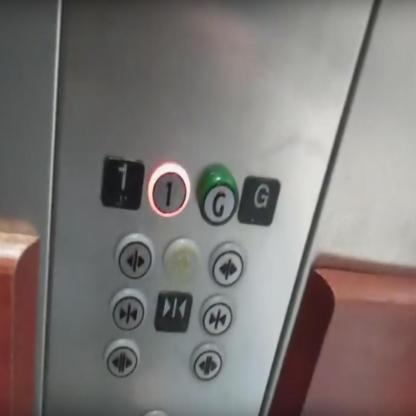1: (99, 153, 145, 210), (148, 161, 191, 218)
G: (196, 162, 238, 226), (237, 175, 281, 226)
blur: (162, 236, 200, 283)
close: (153, 290, 193, 332), (108, 287, 146, 331), (199, 293, 233, 336)
open: (115, 232, 156, 282), (208, 241, 247, 288), (105, 338, 140, 379), (189, 341, 223, 381)
